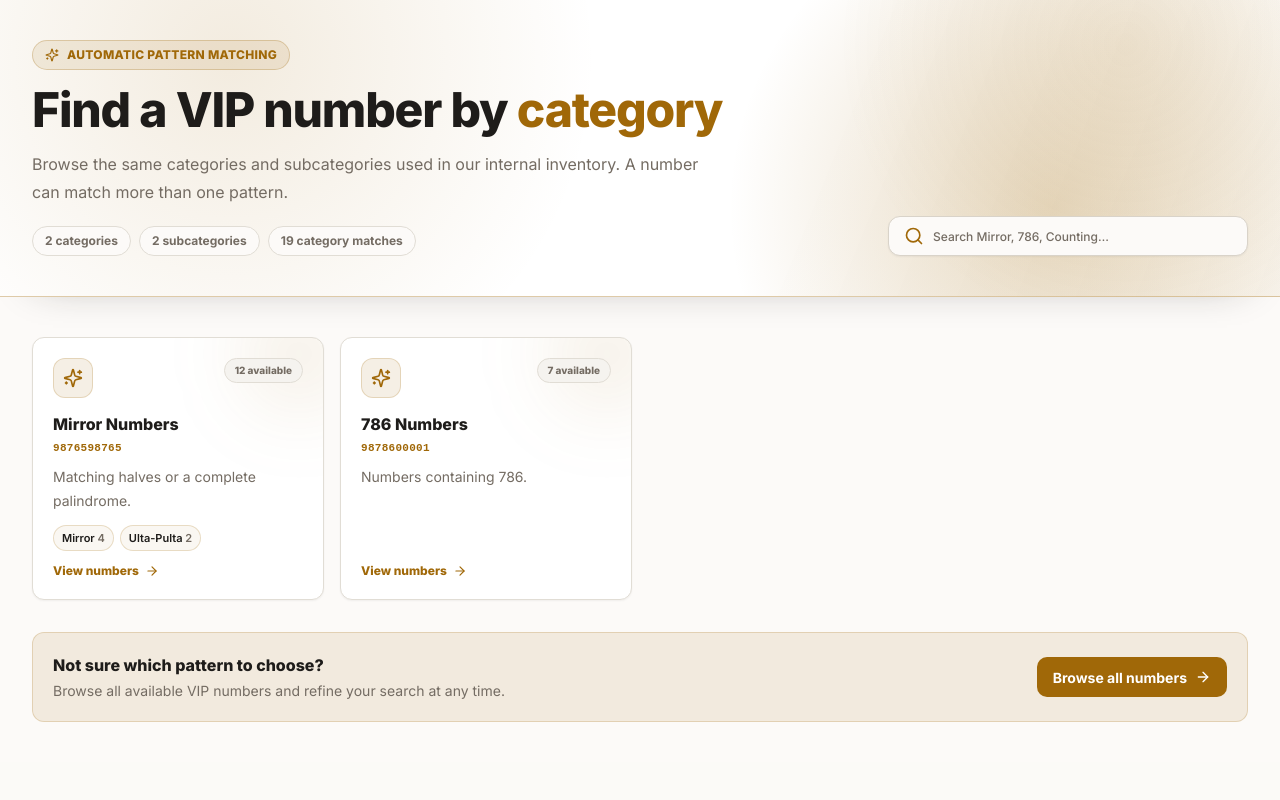
Scenario: Categories page and homepage section › loads searchable category cards with live counts and slug links
Check: the heading "Mirror Numbers" is shown, box [53, 414, 179, 434]
Check: the text "2 categories" is shown, box [32, 226, 131, 256]
Type "ulta-pulta" into the search field named "search categories". click: (1068, 236)
box: [888, 216, 1248, 256]
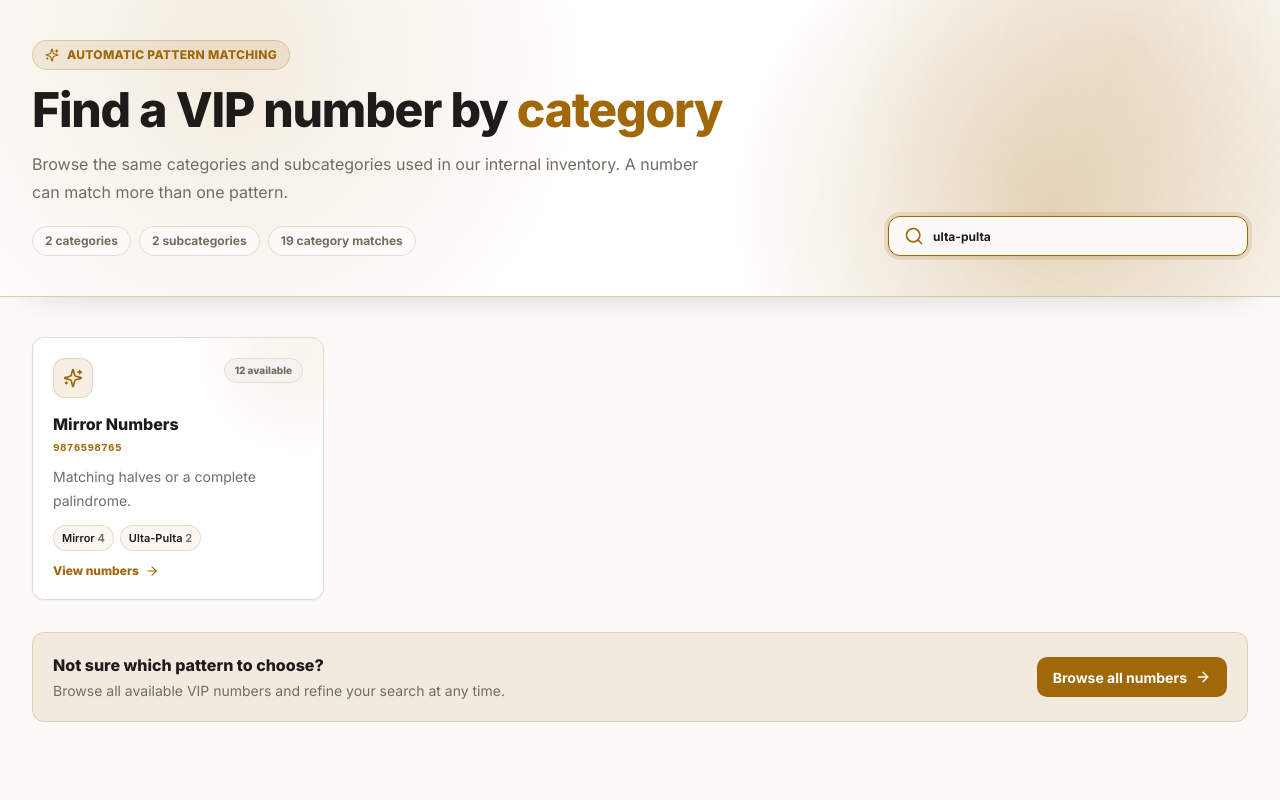
Check: the heading "Mirror Numbers" is shown, box [53, 414, 179, 434]
Replace the text in the search field named "search categories" with "786". click: (1068, 236)
box: [888, 216, 1248, 256]
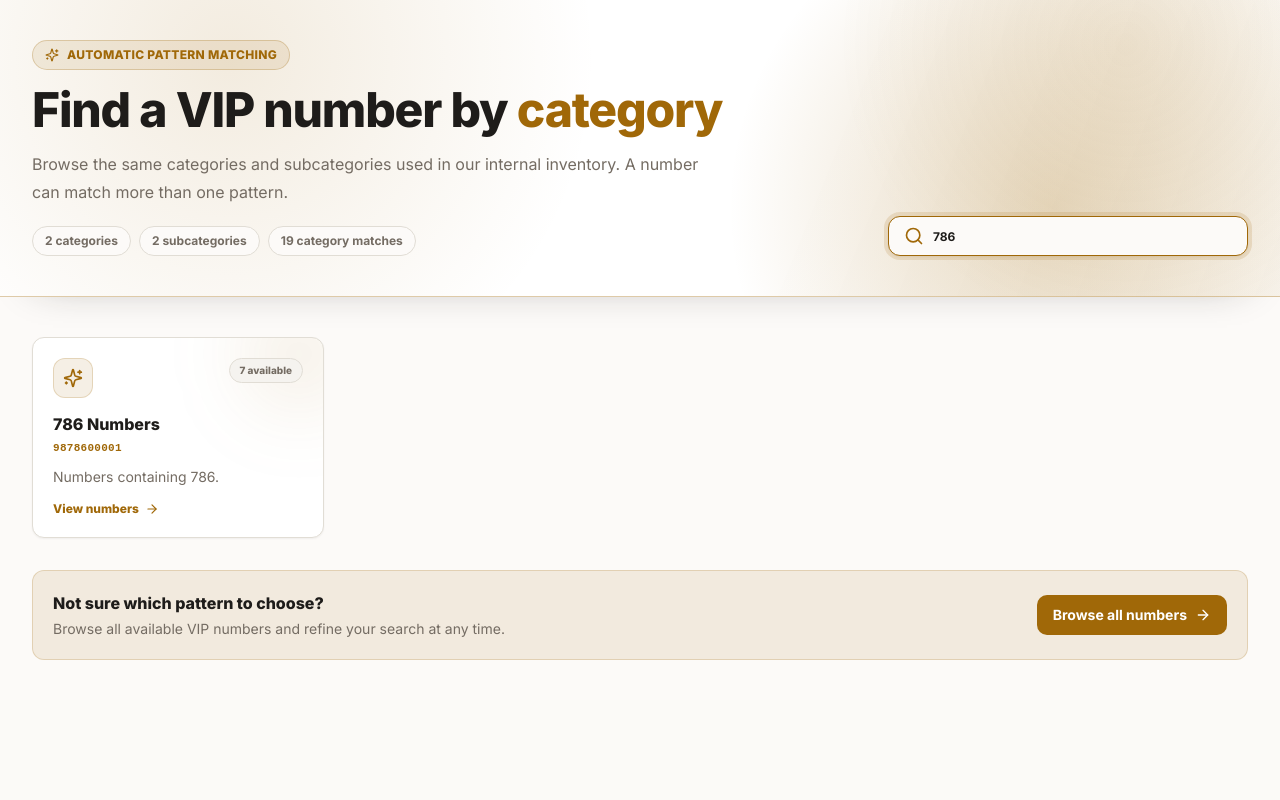
Check: the heading "786 Numbers" is shown, box [53, 414, 160, 434]
Check: the link "Mirror Numbers" is gone
